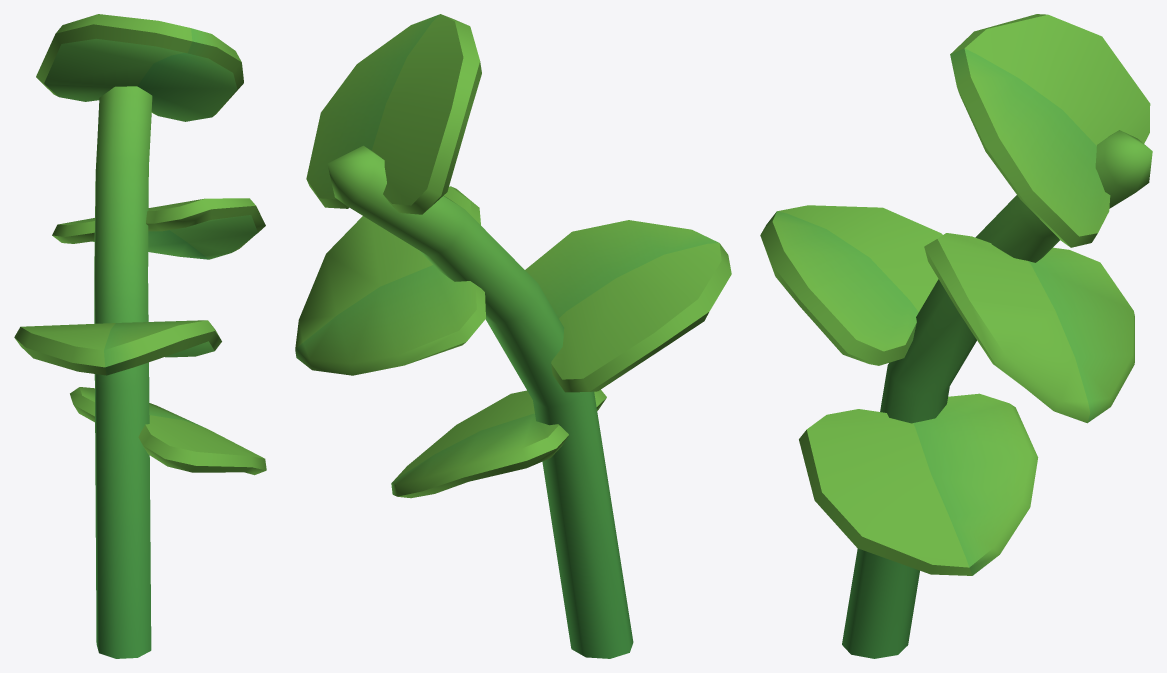
The model's file is Pothos Vine Small.glb.
The picture shows the model from 3 angles, left to right: view 1: azimuth 30°, elevation 25°; view 2: azimuth 150°, elevation 25°; view 3: azimuth 270°, elevation 25°; orthographic projection. The views are drawn at different scales.
Visible parts, largest first — view 1: pothos_vine_small_D; view 2: pothos_vine_small_D; view 3: pothos_vine_small_D.
Boxes of the visible parts, box(x1,y1,x2,y2) form: pothos_vine_small_D: box(14, 14, 266, 658); pothos_vine_small_D: box(295, 14, 731, 658); pothos_vine_small_D: box(760, 14, 1152, 658).
Size of the model in its own units: 0.3171 by 0.5952 by 0.3193.
Materials: 1 (1 with a texture image).
